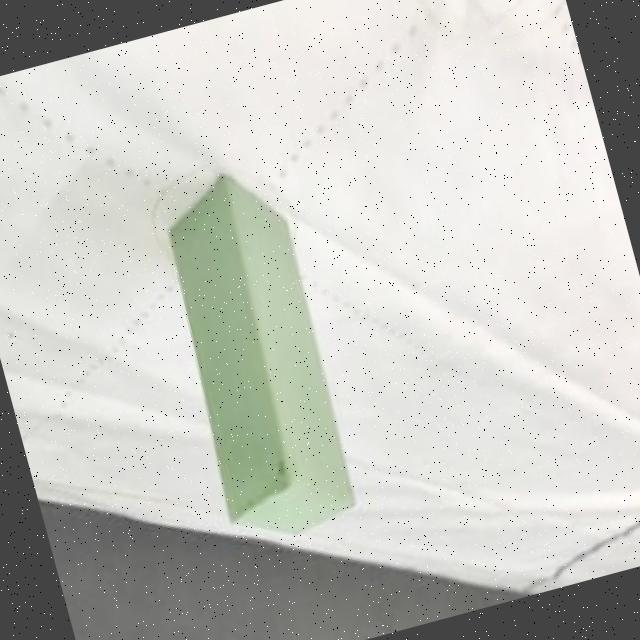greenbox: (139, 157, 368, 554)
